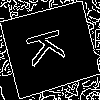K: (25, 23, 74, 69)
